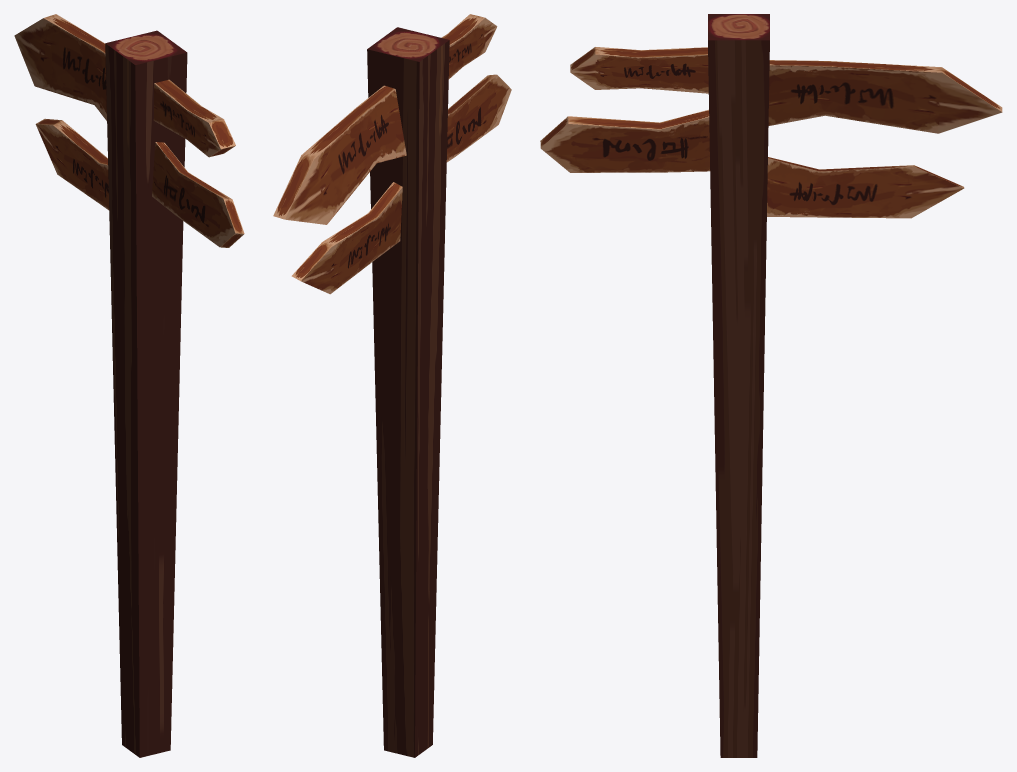
Rendered from poteau-indicateur-3.glb.
3 views of the same model, side by side, from view 1: azimuth 30°, elevation 25°; view 2: azimuth 150°, elevation 25°; view 3: azimuth 270°, elevation 25° (orthographic). The views are drawn at different scales.
Visible parts, largest first — view 1: SM_PROP_signpost_04; view 2: SM_PROP_signpost_04; view 3: SM_PROP_signpost_04.
Boxes of the visible parts, x1,y1,x2,y2 form: SM_PROP_signpost_04: [14, 14, 244, 757]; SM_PROP_signpost_04: [273, 14, 511, 757]; SM_PROP_signpost_04: [540, 14, 1002, 757].
Size of the model in its own units: 0.3209 by 4.12 by 2.39.
Materials: 3 (3 with a texture image).
